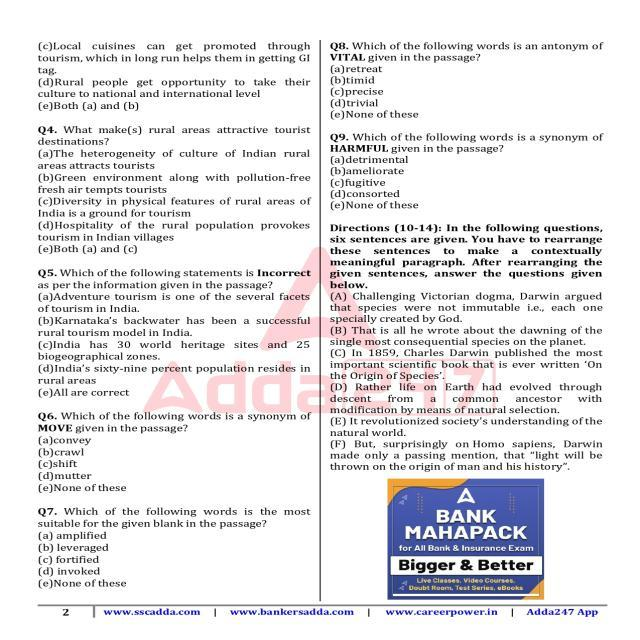Answer_Block: (323, 291, 640, 477), (38, 146, 314, 259), (33, 290, 320, 398), (34, 36, 313, 116), (29, 528, 320, 595), (325, 64, 640, 122), (32, 438, 322, 498), (323, 157, 640, 210)
Question_Answer_Block: (321, 220, 640, 477), (36, 114, 314, 263), (36, 268, 320, 400), (325, 37, 640, 125), (36, 408, 321, 499), (328, 133, 640, 215), (28, 507, 314, 595)
Question_Block: (318, 222, 633, 290), (27, 406, 318, 437), (321, 38, 640, 66), (35, 117, 308, 149), (29, 268, 321, 291), (29, 507, 314, 529), (325, 135, 640, 153)
Question_Paper_Area: (318, 22, 640, 601), (33, 25, 314, 599)
